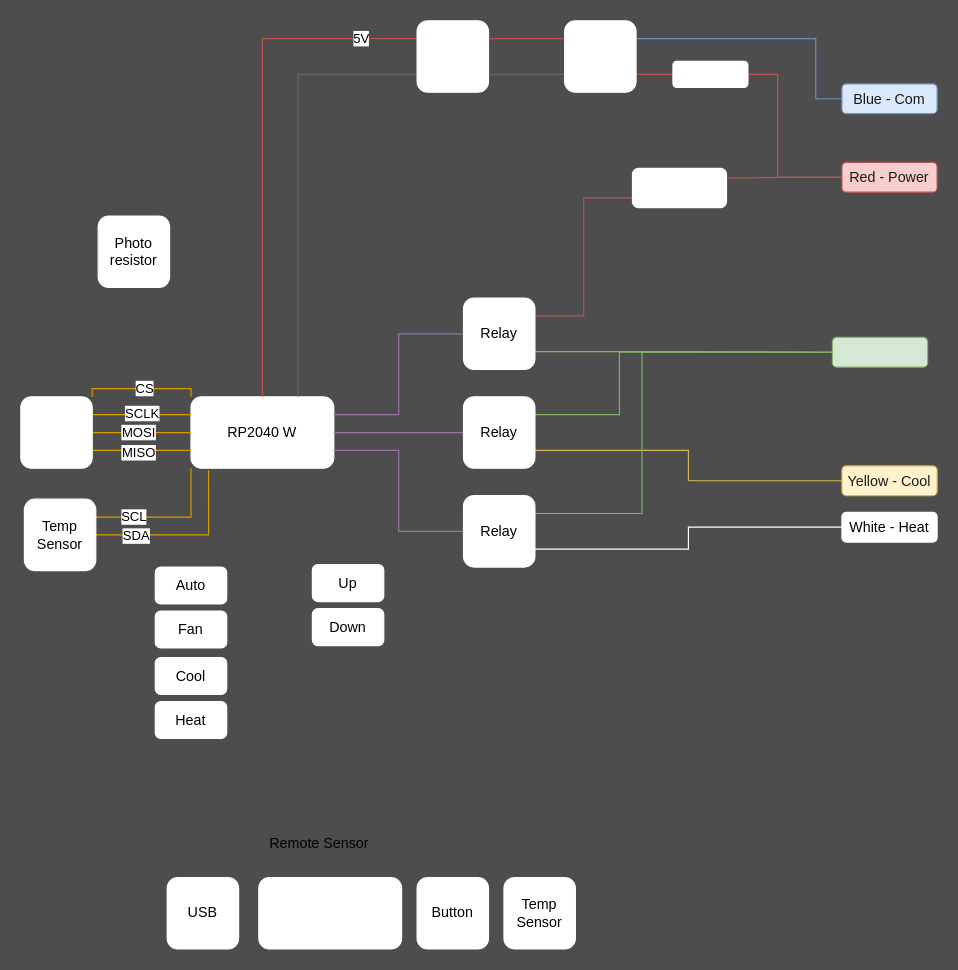
Image size: 958x970. Some labels were removed from this diagram. Each missing label, with the centre of its shape:
1A Fuse: pixel 710 73
24VAC -> 33VDC: pixel 599 56
ESP01: pixel 330 912
Green - Fan: pixel 879 351
LM2596 5V: pixel 452 56
OLED: pixel 56 432
Power SW: pixel 678 187
